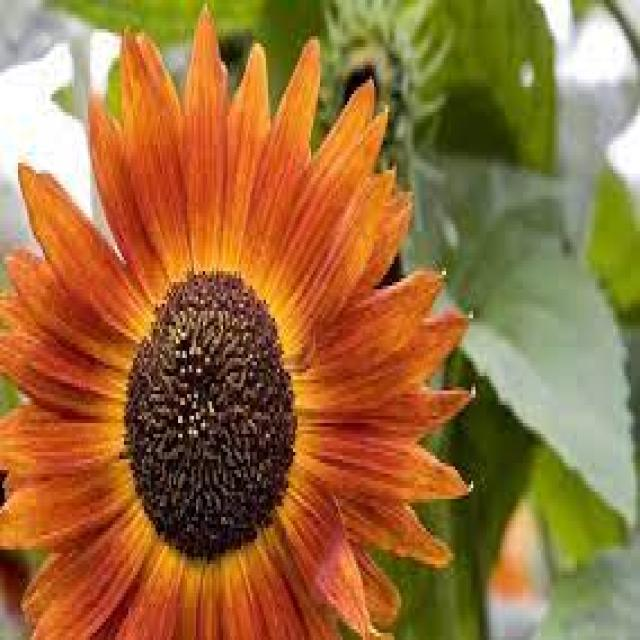sunflower: (1, 0, 484, 640)
